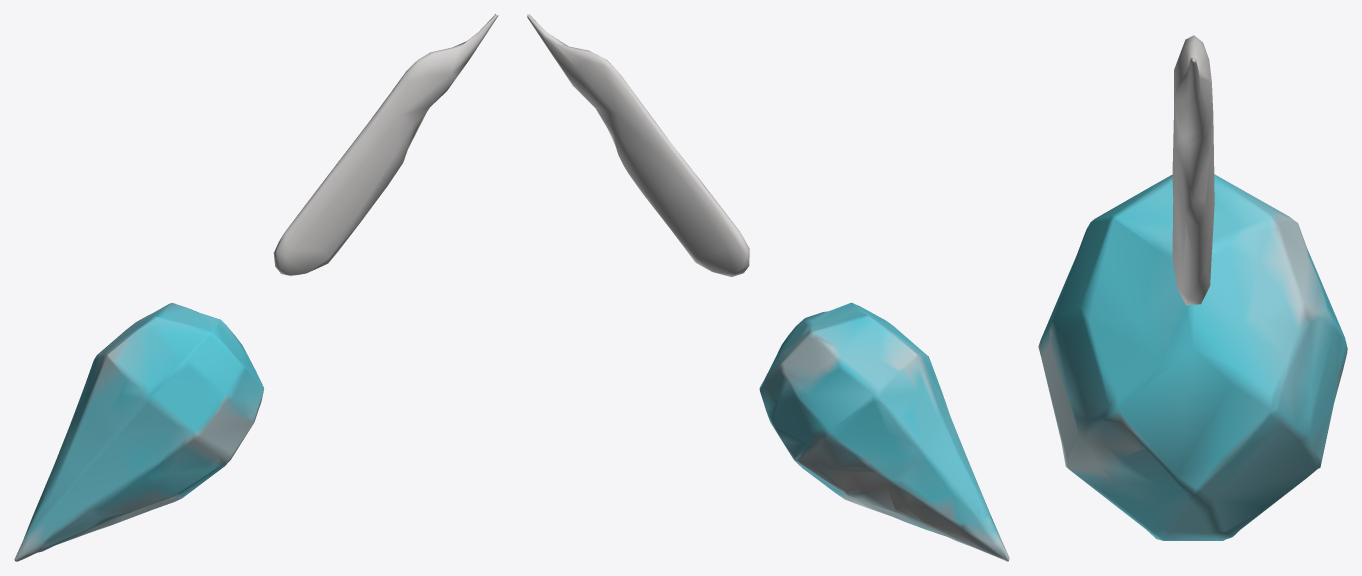
File: gen3d-comet-lod1.glb
The picture shows the model from 3 angles, left to right: view 1: azimuth 30°, elevation 25°; view 2: azimuth 150°, elevation 25°; view 3: azimuth 270°, elevation 25°; orthographic projection. The views are drawn at different scales.
Visible parts, largest first — view 1: part_0; view 2: part_0; view 3: part_0.
Boxes of the visible parts, left/top/right/bottom form: part_0: left=14, top=14, right=498, bottom=561; part_0: left=527, top=14, right=1009, bottom=561; part_0: left=1038, top=35, right=1347, bottom=540.
Bounding box in the file's own units: 1.17 × 0.9975 × 0.325.
